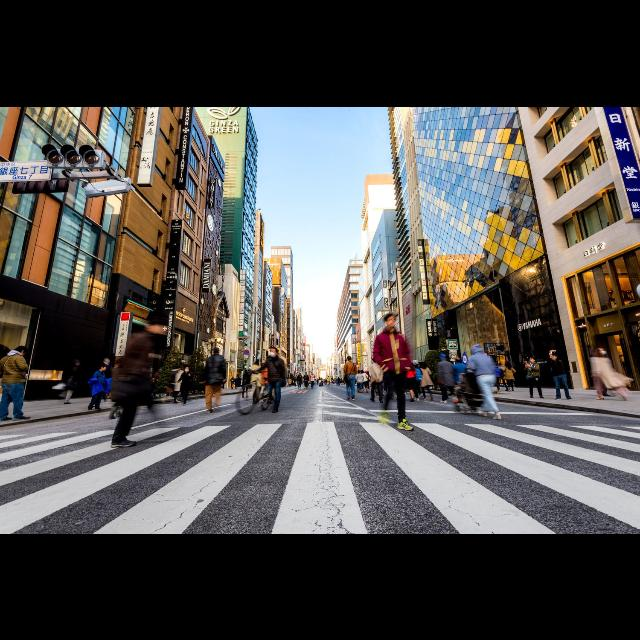head: (148, 318, 166, 334), (384, 313, 396, 327), (17, 344, 28, 356), (472, 344, 482, 354), (270, 346, 278, 356), (74, 358, 82, 366), (598, 348, 608, 354), (439, 354, 446, 361), (214, 346, 220, 354), (404, 359, 412, 365), (101, 364, 107, 371), (104, 358, 110, 364), (184, 366, 190, 372), (372, 357, 378, 363), (412, 360, 418, 366), (419, 360, 425, 366), (456, 357, 462, 363), (530, 356, 536, 362), (552, 352, 558, 358), (348, 355, 352, 361), (506, 360, 510, 366), (180, 368, 184, 372), (244, 369, 248, 373), (360, 369, 364, 373), (498, 361, 502, 365), (310, 371, 314, 374), (300, 372, 302, 376), (496, 362, 498, 366), (232, 376, 234, 378), (237, 376, 239, 378), (290, 376, 292, 378), (306, 372, 308, 374), (358, 370, 360, 372), (328, 376, 329, 376)
person: (109, 317, 171, 451), (372, 312, 414, 431), (469, 342, 503, 421), (250, 345, 286, 413), (0, 344, 30, 421), (199, 346, 227, 414), (52, 358, 84, 404), (548, 348, 574, 400), (86, 364, 114, 412), (92, 356, 116, 402), (436, 353, 456, 403), (594, 347, 612, 397), (524, 355, 544, 399), (400, 358, 418, 402), (452, 356, 468, 404), (177, 366, 195, 406), (417, 360, 435, 400), (369, 359, 385, 403), (344, 354, 358, 400), (410, 358, 424, 402), (172, 366, 186, 404), (502, 360, 516, 392), (498, 362, 510, 391), (492, 362, 502, 392), (242, 368, 250, 398), (355, 369, 365, 393), (360, 369, 370, 393), (302, 370, 310, 388), (234, 374, 242, 390), (296, 372, 304, 388), (310, 370, 316, 388), (230, 374, 236, 390), (287, 375, 293, 387), (326, 375, 332, 385)
